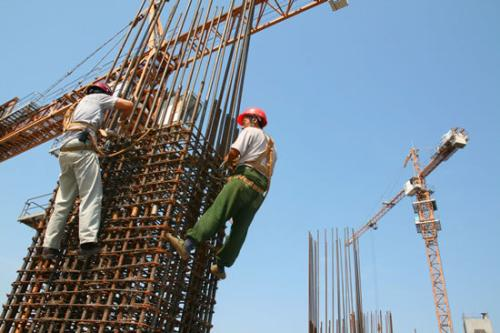boots: (164, 231, 191, 260), (79, 242, 102, 256), (210, 262, 226, 279), (41, 246, 59, 259)
gloves: (78, 130, 89, 142), (219, 159, 228, 169)
hard-hat: (236, 107, 267, 127), (86, 82, 113, 95)
person: (164, 106, 277, 280), (40, 81, 134, 261)
